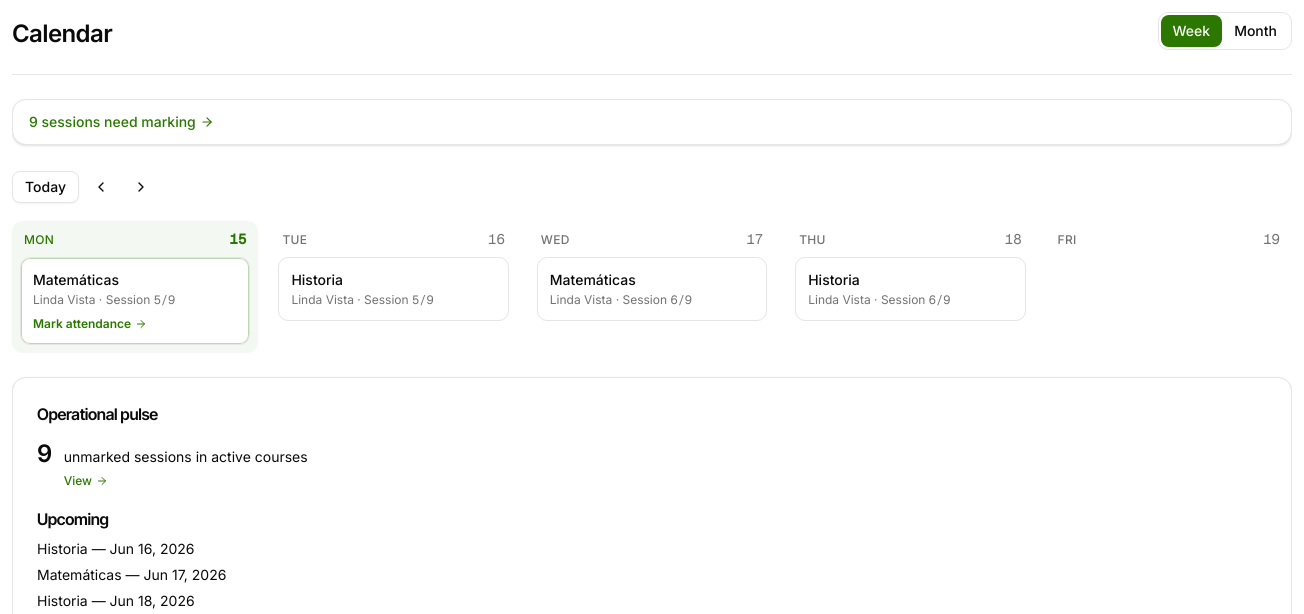
Test case: <CalendarPage /> › tapping a day in month mode navigates the week canvas to that week (ADR-0044)
Step 1. Click the button "Month" → (1256, 31), box left=1222, top=15, right=1289, bottom=47
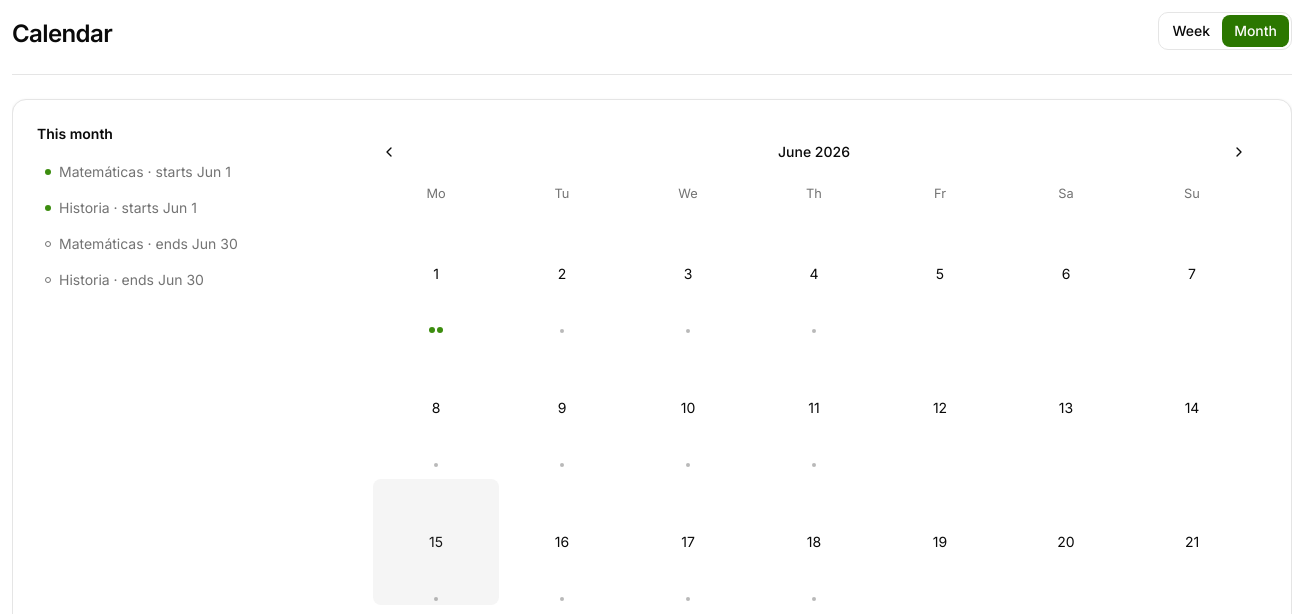
Check: the link "sessions" is gone
// Tapping a day swaps to Week view positioned on that week.
Step 2. Click the button named "Monday, June 15th, 2026" → (436, 542), box left=373, top=479, right=499, bottom=605
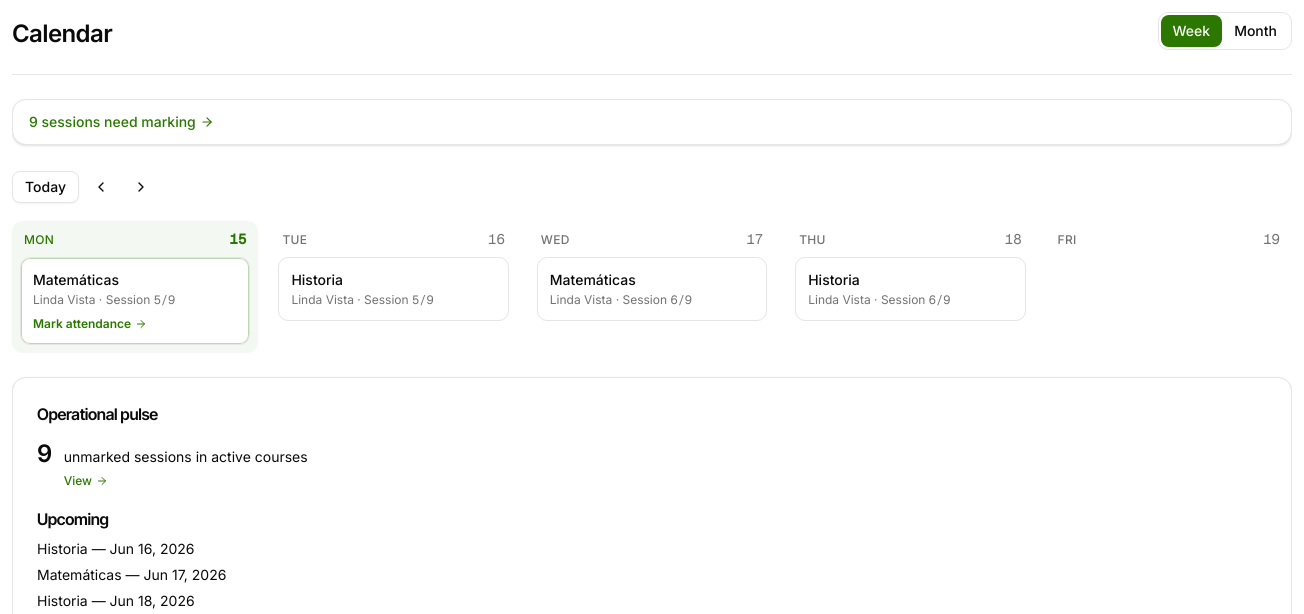
Check: the heading "June 2026" is gone
Check: the text "Matemáticas" below "15" is shown, box left=33, top=271, right=119, bottom=288
Check: the button "Today" is shown, box left=12, top=171, right=79, bottom=203
